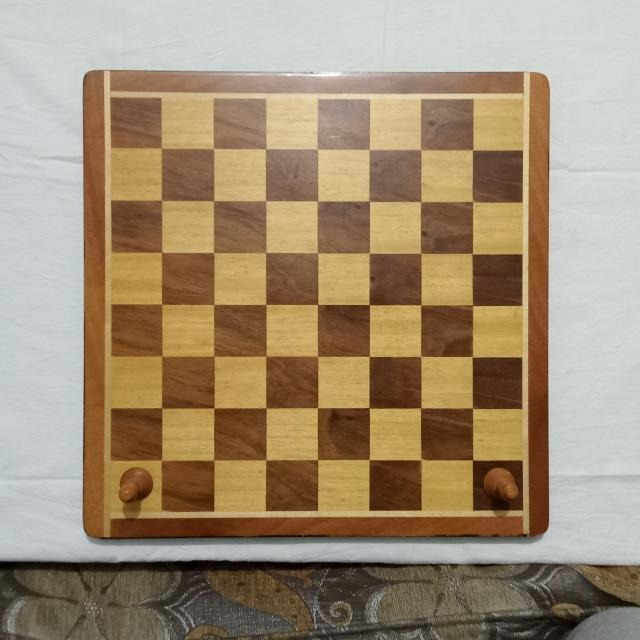white-pawn: (482, 465, 522, 503), (118, 466, 154, 506)
